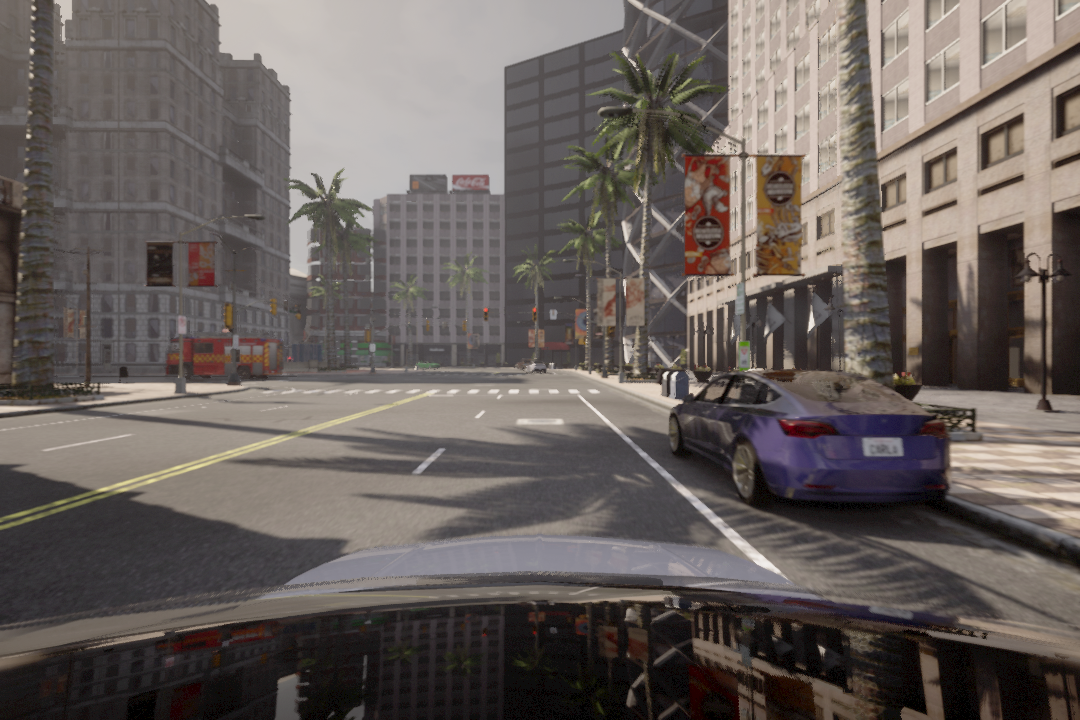TrafficLight: (531, 307, 539, 323), (482, 307, 489, 322)
walkside: (256, 388, 605, 394)
